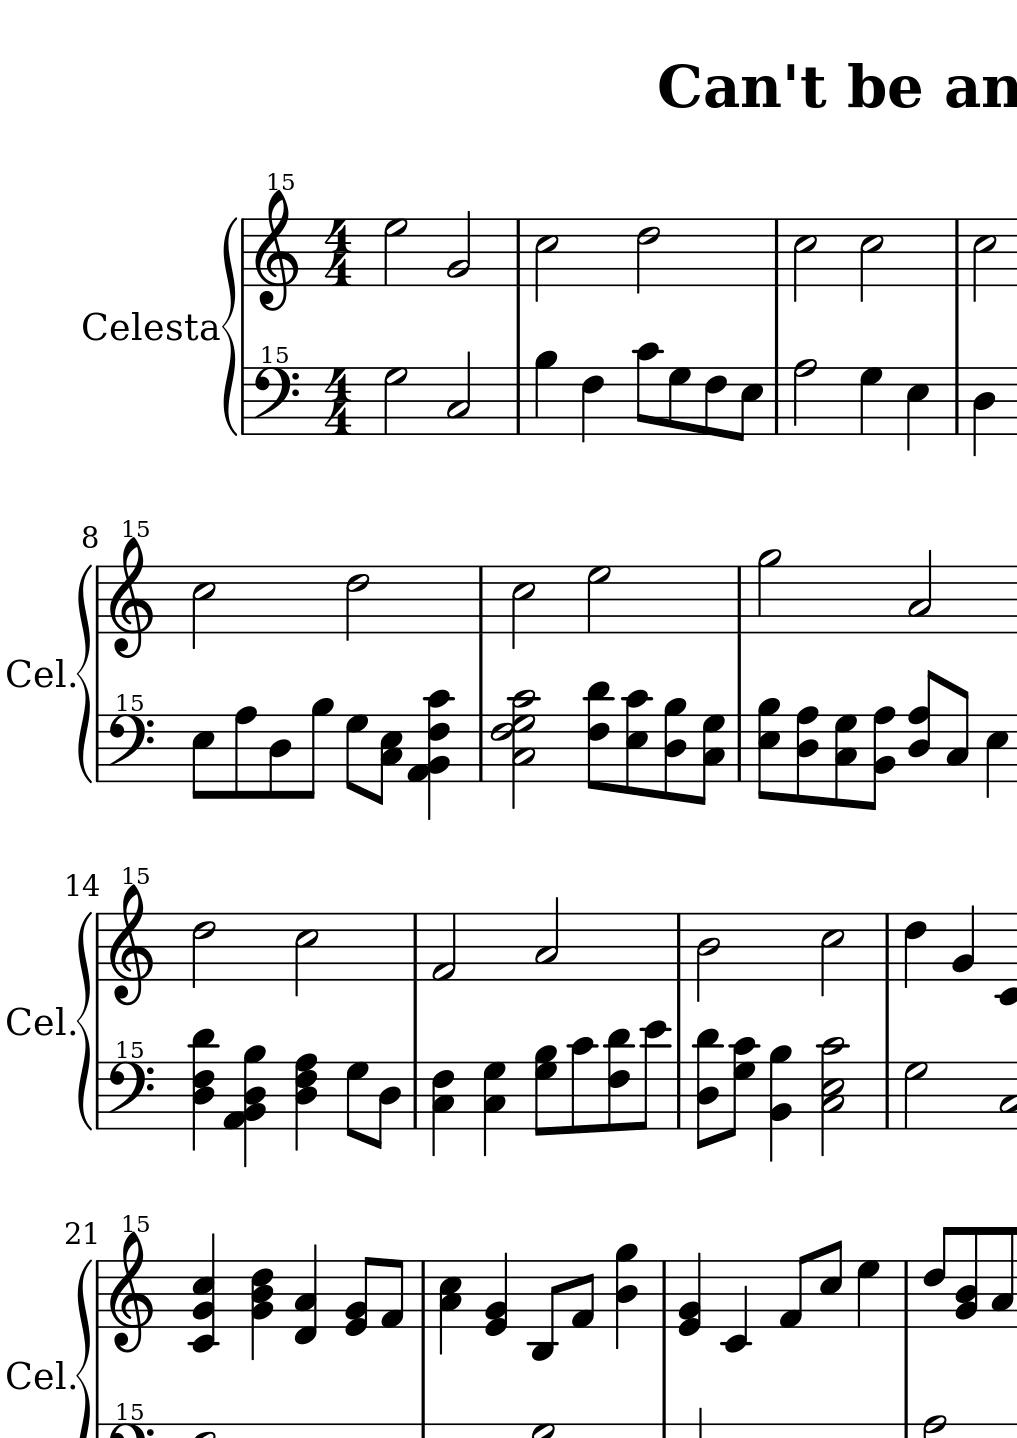1: (83, 1220, 98, 1248), (65, 872, 79, 899), (266, 171, 278, 190)
2: (63, 1220, 80, 1248)
2_1: (429, 911, 458, 984)
2_2: (446, 210, 472, 287)
2_3: (532, 894, 561, 983), (906, 549, 934, 636), (445, 351, 471, 433)
2_4: (695, 911, 722, 1003)
2_5: (532, 217, 559, 301), (508, 564, 535, 650), (292, 911, 318, 997), (819, 911, 845, 997), (970, 217, 996, 301), (857, 217, 883, 301), (790, 218, 816, 301), (190, 564, 215, 649)
2_6: (635, 217, 659, 294), (190, 912, 215, 989), (345, 564, 368, 641)
2_7: (381, 216, 407, 287), (901, 1060, 927, 1132), (586, 564, 611, 635), (381, 365, 406, 435)
2_8: (790, 356, 814, 437)
2_9: (755, 548, 783, 634)
2_th: (814, 1034, 849, 1157)
4: (321, 216, 356, 254), (322, 366, 356, 402), (321, 402, 356, 433), (322, 253, 354, 285), (83, 871, 100, 899)
4_-1_3: (292, 1244, 320, 1344)
4_-2: (722, 1259, 750, 1355)
4_0_2: (676, 1252, 704, 1336), (485, 1253, 508, 1336)
4_2: (950, 903, 975, 983)
4_2_9: (767, 1045, 792, 1161)
4_3_5: (438, 1259, 462, 1355)
4_3_6: (431, 1061, 457, 1155)
4_3_7: (482, 1060, 508, 1157)
4_4: (970, 367, 996, 458)
4_4_9: (613, 1242, 639, 1353)
4_4th: (404, 688, 453, 817), (492, 689, 539, 809), (225, 1042, 267, 1168)
4_5: (982, 712, 1009, 799), (904, 366, 929, 454)
4_6: (579, 365, 604, 444), (903, 912, 927, 989)
4_7: (854, 1259, 881, 1329), (857, 365, 883, 437)
4_9: (532, 349, 557, 437)
4_th: (186, 1229, 223, 1355), (186, 1027, 218, 1149), (245, 1254, 274, 1359), (291, 1050, 318, 1152)
5: (282, 171, 295, 190)
8: (81, 523, 98, 549)
8_-3: (529, 1260, 561, 1363)
8_0_2: (345, 1256, 378, 1336)
8_1: (777, 1251, 812, 1329), (569, 1258, 595, 1344), (381, 1258, 405, 1332)
8_10: (568, 1036, 595, 1137), (634, 340, 660, 436)
8_12: (634, 1019, 668, 1133)
8_2_4: (953, 1226, 980, 1330)
8_2_8: (866, 705, 896, 812)
8_3: (988, 1226, 1015, 1331), (944, 685, 970, 782)
8_3_5: (374, 713, 403, 805)
8_3_7: (695, 712, 728, 806)
8_3_8: (834, 713, 859, 810)
8_4: (371, 1060, 401, 1152), (267, 713, 291, 802)
8_4_11: (692, 1027, 723, 1149)
8_4_8: (907, 667, 941, 784), (795, 705, 820, 804)
8_4_9: (661, 696, 687, 801)
8_5: (732, 366, 764, 443), (817, 1238, 843, 1329), (189, 712, 215, 802)
8_5_10: (622, 688, 653, 797)
8_5_9: (755, 698, 781, 801)
8_6: (920, 1225, 952, 1330), (702, 366, 726, 439)
8_6_11: (583, 680, 616, 793), (603, 1028, 634, 1132)
8_7: (345, 713, 367, 800), (345, 1060, 368, 1142), (666, 365, 690, 436)
8_7_10: (728, 1036, 761, 1140)
8_7_9: (534, 1044, 558, 1137)
8_8: (231, 703, 258, 801)
8_9: (299, 698, 332, 801)
Brace: (73, 561, 95, 780), (77, 910, 92, 1132), (74, 1256, 92, 1438), (225, 213, 238, 432)
Cel: (80, 307, 144, 344), (4, 1002, 67, 1039), (4, 655, 65, 690), (6, 1355, 63, 1392)
DHigh_Fclef: (103, 689, 154, 783), (250, 342, 300, 436), (105, 1039, 154, 1133)
DHigh_Gclef: (108, 512, 158, 660), (109, 1209, 158, 1353), (108, 860, 155, 1008), (253, 168, 300, 312)
Single_barline: (508, 219, 527, 286), (948, 219, 966, 285), (948, 367, 966, 432), (406, 1061, 424, 1129), (767, 219, 785, 286), (878, 1061, 896, 1128), (655, 1260, 672, 1327), (510, 367, 527, 433), (767, 367, 785, 433), (731, 714, 747, 783), (415, 1261, 431, 1328), (731, 567, 747, 633), (472, 715, 489, 781), (879, 914, 896, 980), (671, 1061, 687, 1129), (473, 566, 489, 633), (670, 914, 686, 981), (898, 1261, 914, 1328), (407, 914, 423, 980), (236, 219, 250, 286), (91, 566, 105, 634), (237, 367, 250, 435), (91, 914, 105, 981), (91, 1261, 105, 1328), (92, 715, 105, 781), (92, 1063, 105, 1129), (656, 1423, 672, 1438), (897, 1423, 914, 1438), (415, 1423, 430, 1438), (91, 1424, 105, 1438)
TimeSig: (322, 218, 356, 286), (322, 367, 354, 435)
